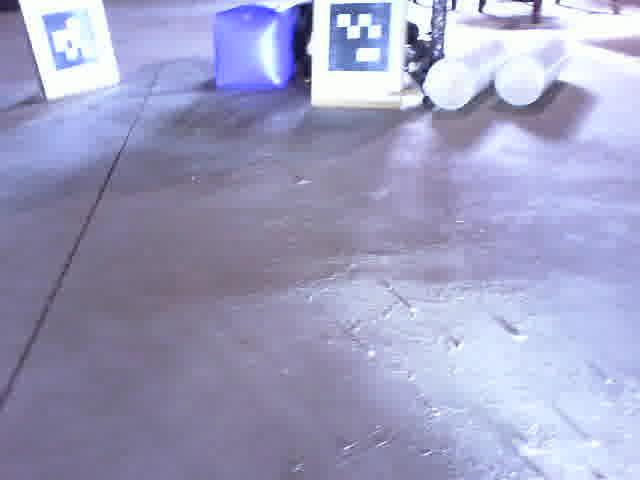coral: (424, 37, 509, 110), (494, 38, 569, 107)
